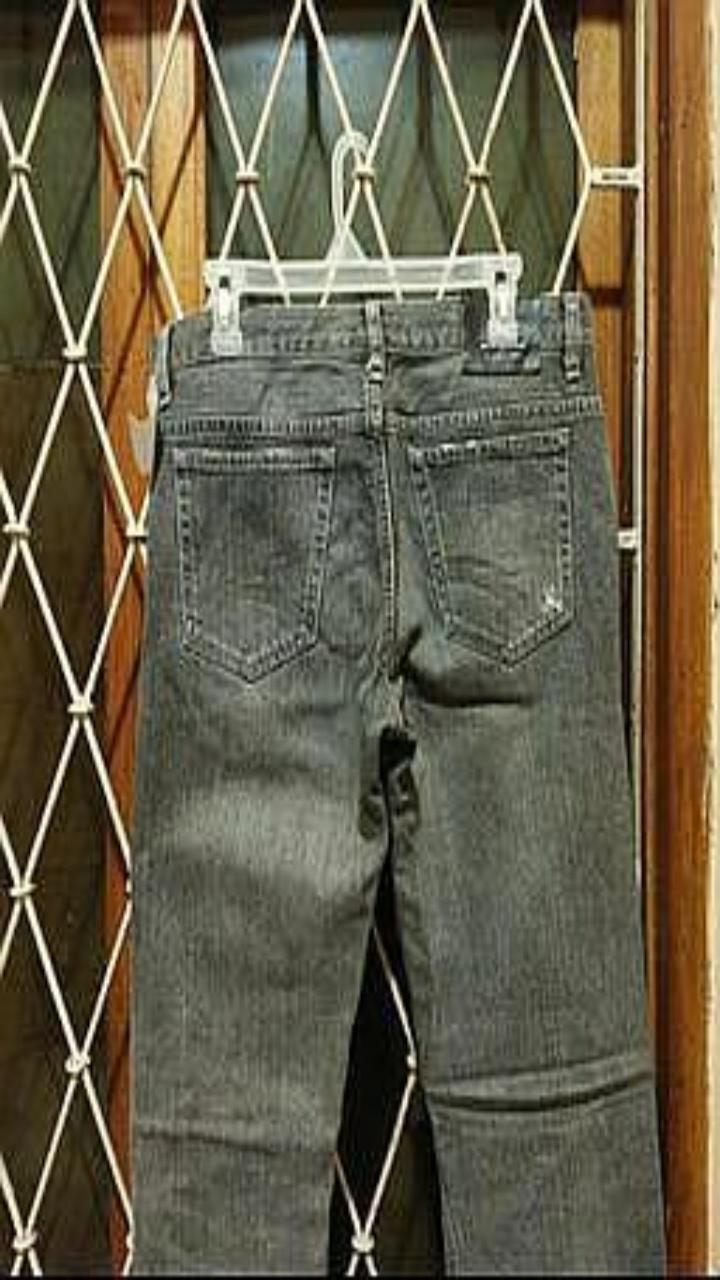Jeans: (131, 293, 664, 1273)
